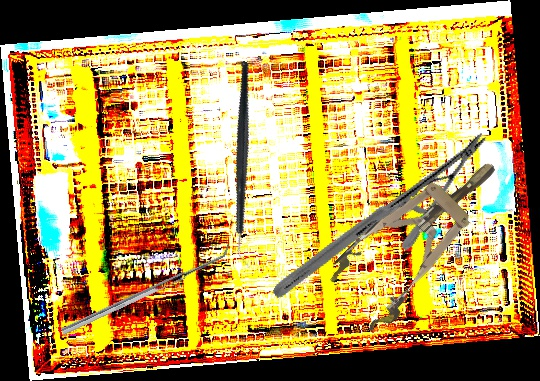Chopper: (171, 60, 321, 269)
Needle Holder: (271, 82, 488, 349)
Spatula Surgical: (57, 242, 235, 336)
Speculum: (318, 136, 523, 338)
